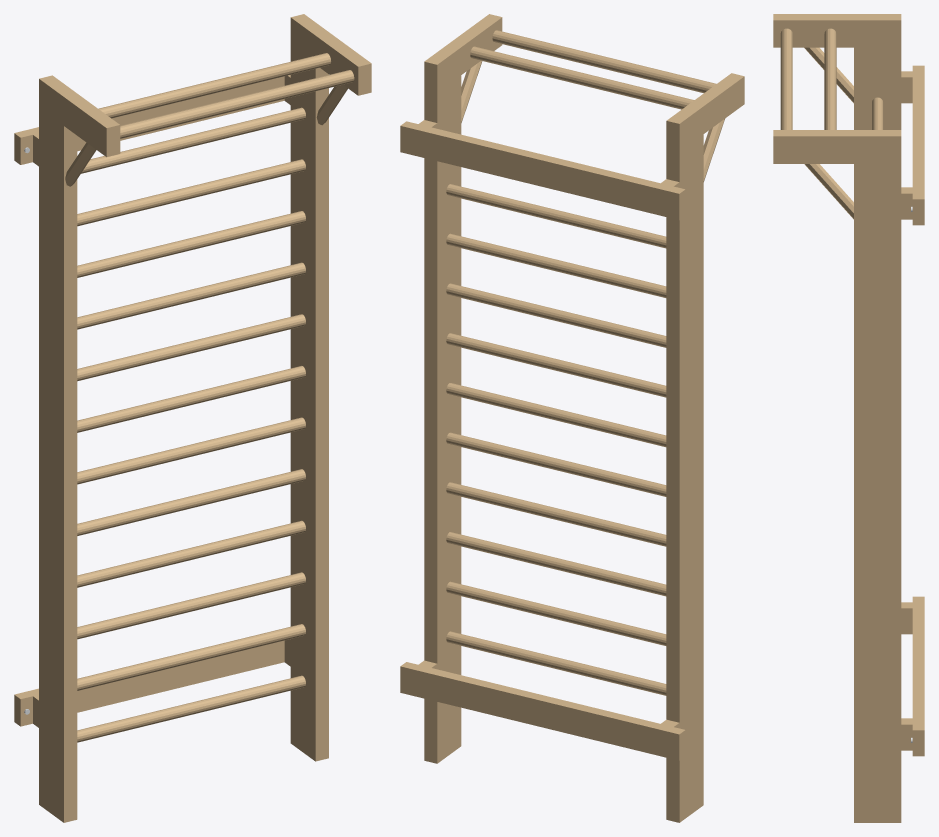
Rendered from Rehabilitation_Room_legs1.fbx.
3 views of the same model, side by side, from view 1: azimuth 30°, elevation 25°; view 2: azimuth 150°, elevation 25°; view 3: azimuth 270°, elevation 25° (orthographic). The views are drawn at different scales.
Visible parts, largest first — view 1: 07_StallBars_Intact_Mesh; view 2: 07_StallBars_Intact_Mesh; view 3: 07_StallBars_Intact_Mesh.
Boxes of the visible parts, <box> form: 07_StallBars_Intact_Mesh: <box>14,14,371,822</box>; 07_StallBars_Intact_Mesh: <box>400,14,744,822</box>; 07_StallBars_Intact_Mesh: <box>773,14,924,822</box>.
Bounding box in the file's own units: 94 × 225 × 45.
